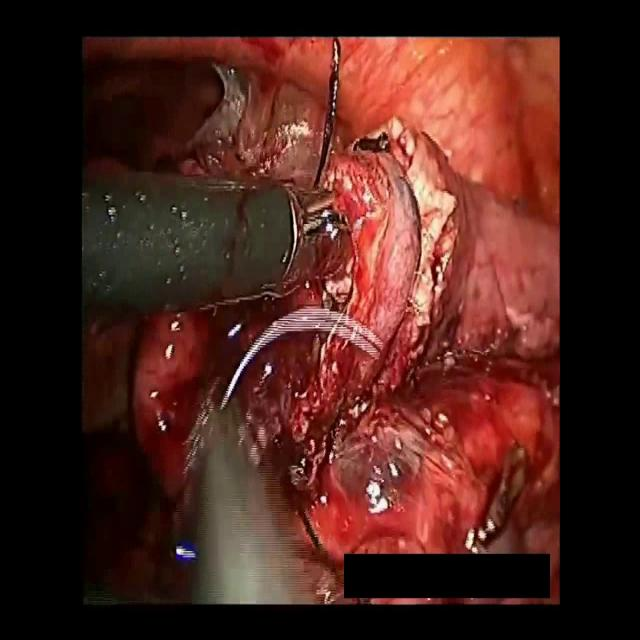surgical-area: (81, 36, 562, 608)
surgical-tool: (82, 163, 348, 315), (195, 397, 294, 608)
